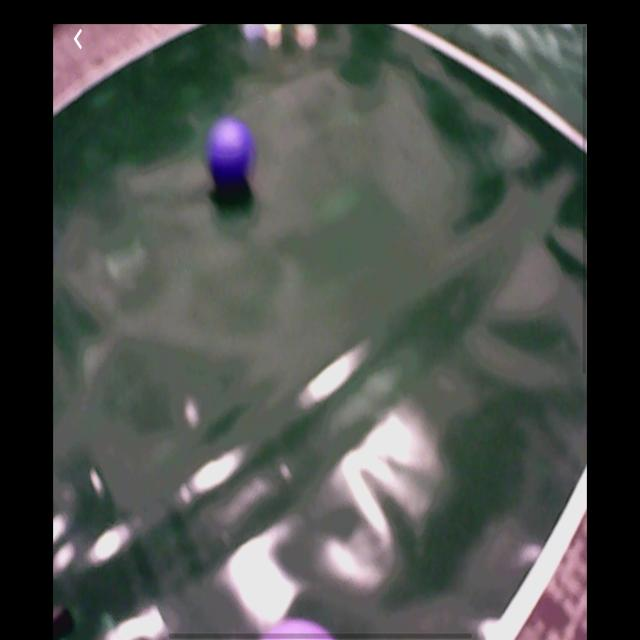ball: (206, 115, 252, 184), (258, 617, 336, 640)
